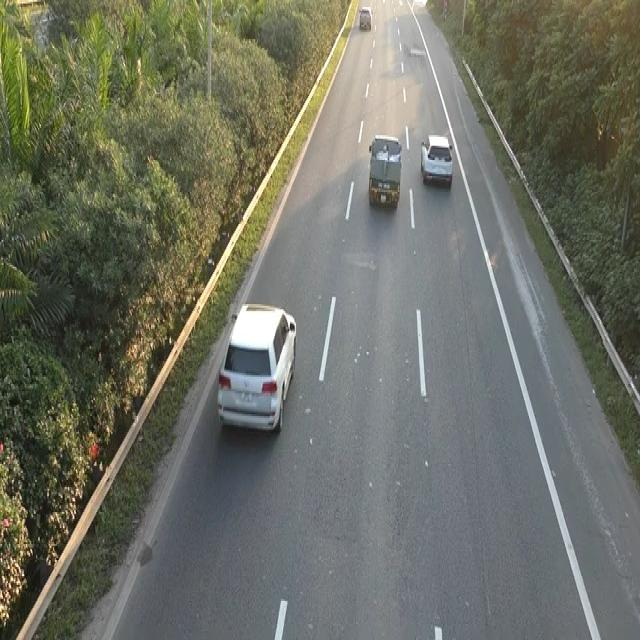car: (215, 298, 297, 436), (419, 132, 453, 186)
minivan: (366, 130, 403, 210)
